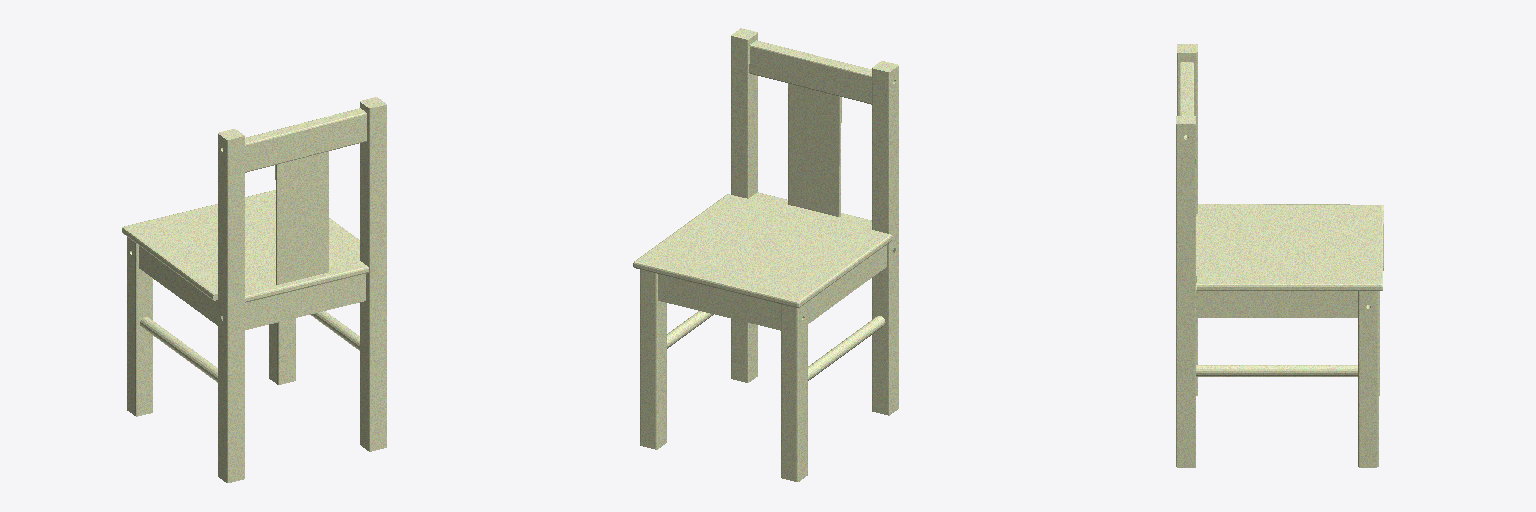
The picture shows the model from 3 angles: view 1: azimuth 30°, elevation 25°; view 2: azimuth 150°, elevation 25°; view 3: azimuth 270°, elevation 25°; orthographic projection.
Visible parts, largest first — view 1: left_bakben; view 2: left_bakben; view 3: left_bakben.
Part boxes in pixels (x1,y1,x2,y2): left_bakben: (122, 97, 386, 482); left_bakben: (633, 28, 898, 481); left_bakben: (1176, 44, 1383, 467).
Bounding box in the file's own units: 10.68 × 21.09 × 11.52.
1 materials, 1 textured.